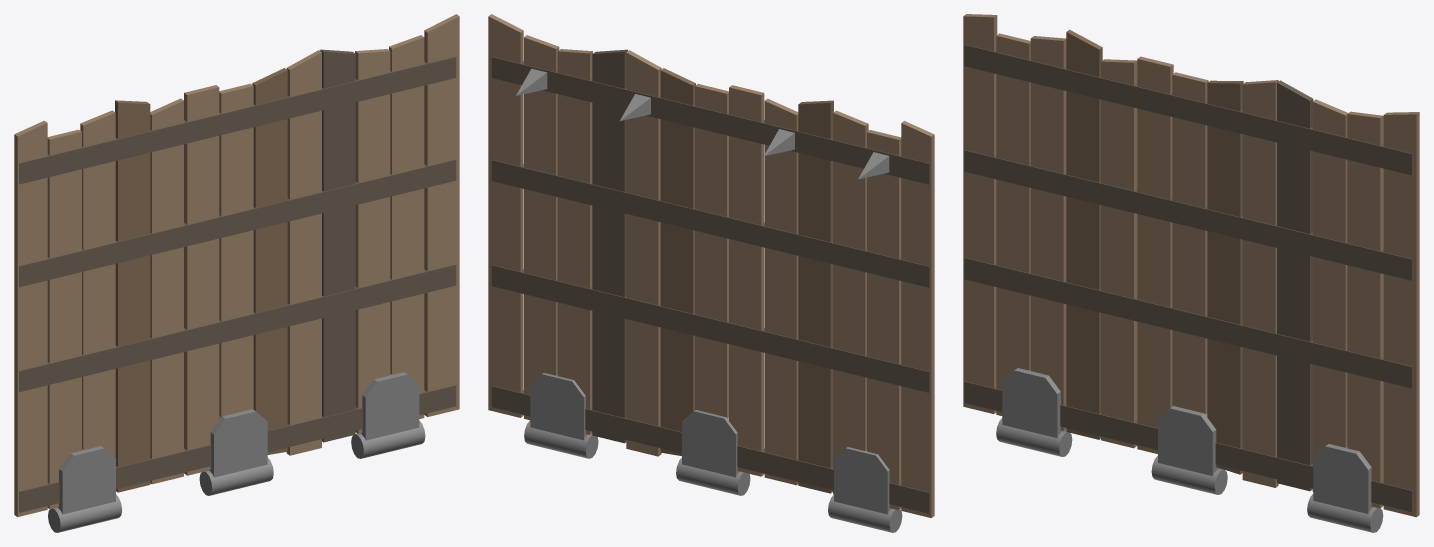
The model's file is siege_tower_bridge.glb.
3 renders of one model, left to right at view 1: azimuth 30°, elevation 25°; view 2: azimuth 150°, elevation 25°; view 3: azimuth 330°, elevation 25°, orthographic. The views are drawn at different scales.
Parts seen in each view (by area): view 1: pCylinder86; view 2: pCylinder86; view 3: pCylinder86.
Boxes of the visible parts, x1,y1,x2,y2 form: pCylinder86: (14, 14, 459, 532); pCylinder86: (488, 14, 934, 532); pCylinder86: (963, 14, 1419, 532).
Bounding box in the file's own units: 5.53 × 4.99 × 0.7084.
